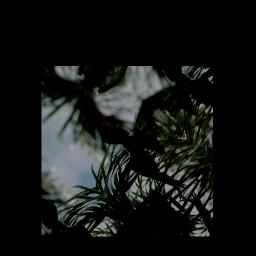Crow: (65, 75, 203, 206)
